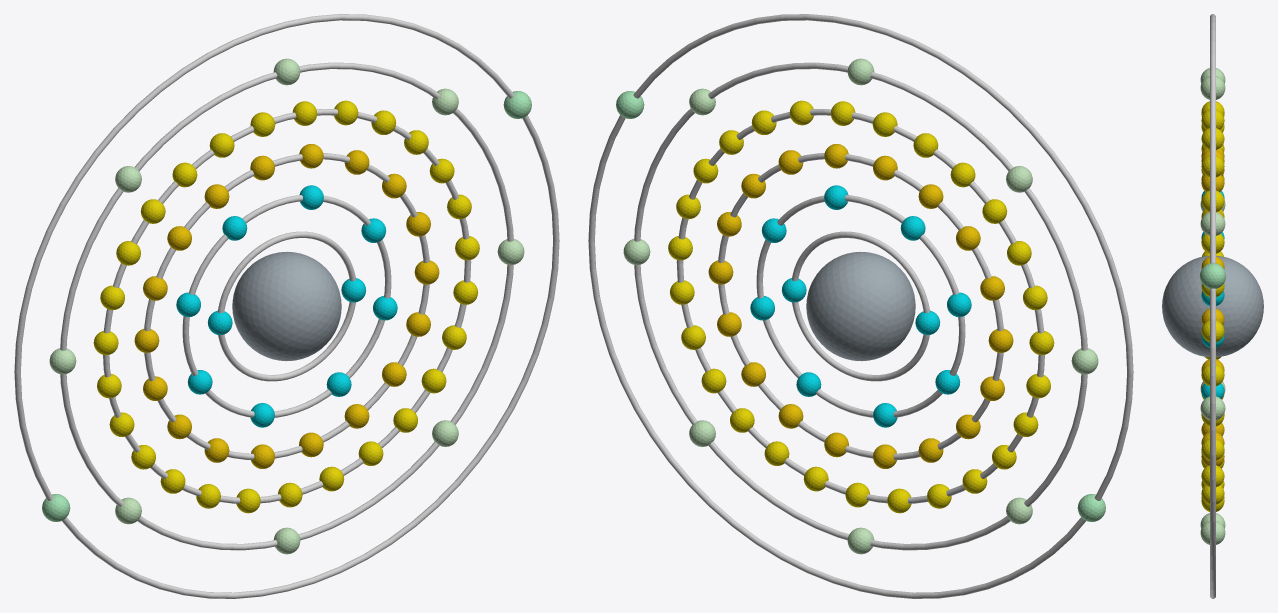
3 renders of one model, left to right at view 1: azimuth 30°, elevation 25°; view 2: azimuth 150°, elevation 25°; view 3: azimuth 270°, elevation 25°, orthographic. The views are drawn at different scales.
Visible parts, largest first — view 1: world; view 2: world; view 3: world.
Boxes of the visible parts, <box> form: world: <box>14,14,559,598</box>; world: <box>588,14,1133,598</box>; world: <box>1162,14,1263,598</box>.
Size of the model in its own units: 2.53 by 2.53 by 0.44.
